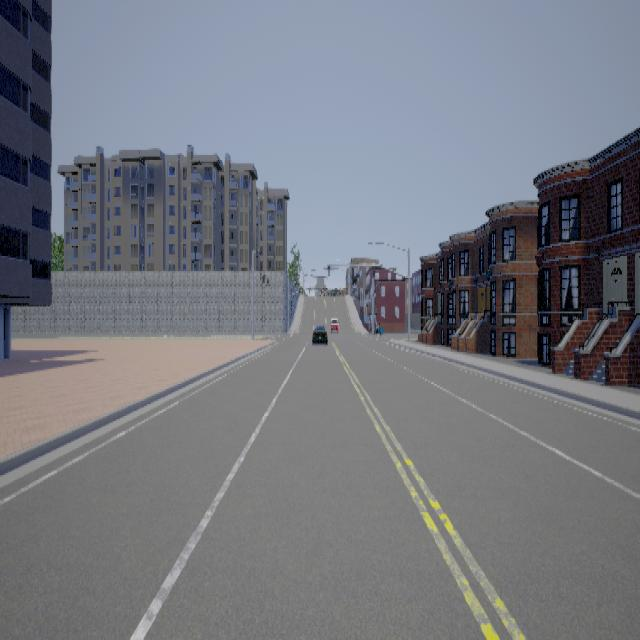vehicle: (310, 322, 332, 345), (331, 314, 342, 334)
